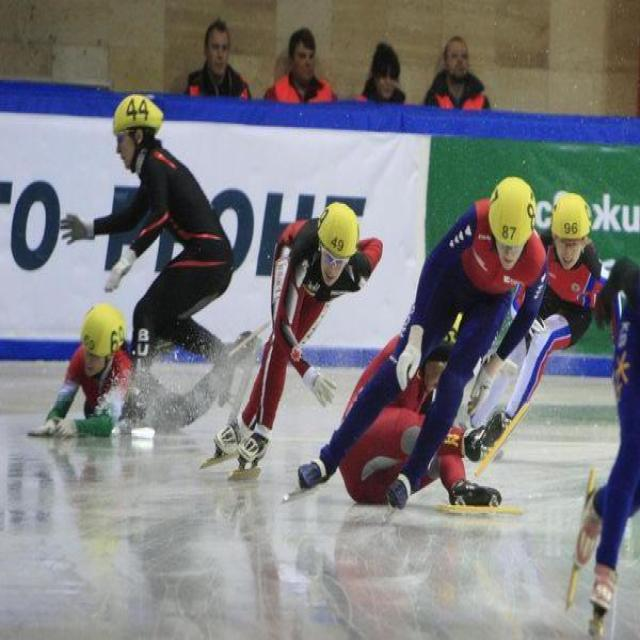fall: (28, 305, 201, 434)
nonfall: (348, 177, 546, 512), (217, 203, 382, 469), (102, 95, 232, 429), (478, 193, 604, 452)
